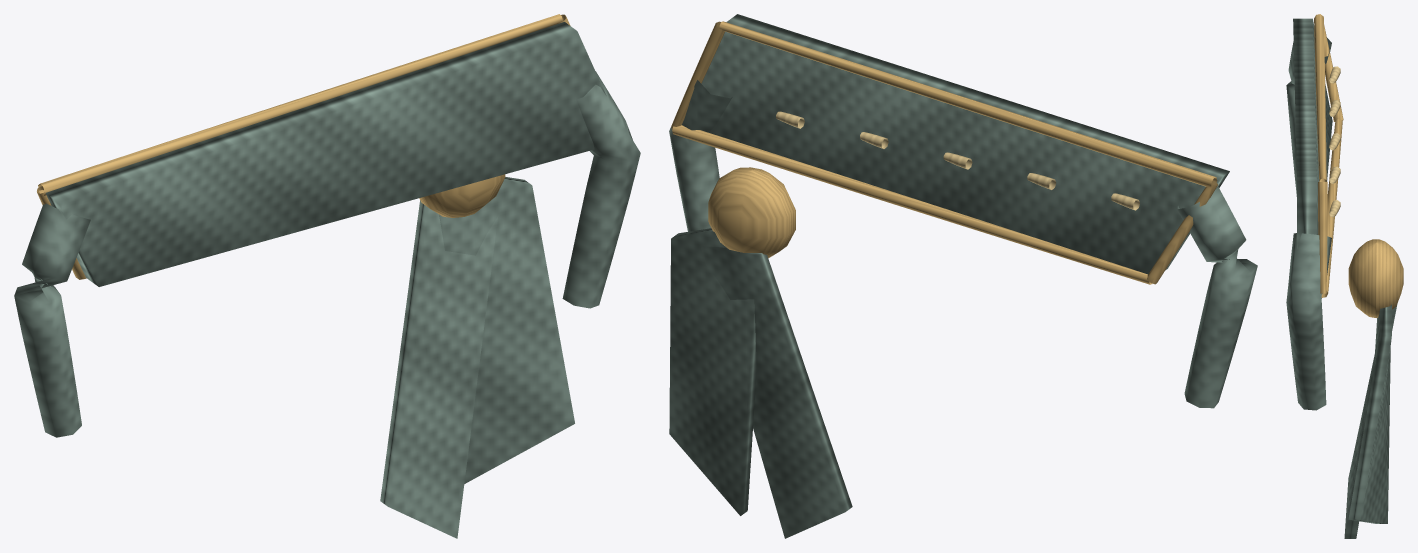
Rendered from outfit_sash.glb.
The picture shows the model from 3 angles, left to right: view 1: azimuth 30°, elevation 25°; view 2: azimuth 150°, elevation 25°; view 3: azimuth 270°, elevation 25°; orthographic projection. The views are drawn at different scales.
Visible parts, largest first — view 1: outfit_sash; view 2: outfit_sash; view 3: outfit_sash.
Boxes of the visible parts, left/top/right/bottom form: outfit_sash: left=14, top=14, right=640, bottom=538; outfit_sash: left=669, top=14, right=1257, bottom=538; outfit_sash: left=1286, top=14, right=1403, bottom=538.
Size of the model in its own units: 1.39 by 1.1 by 0.2964.
Materials: 3 (3 with a texture image).
